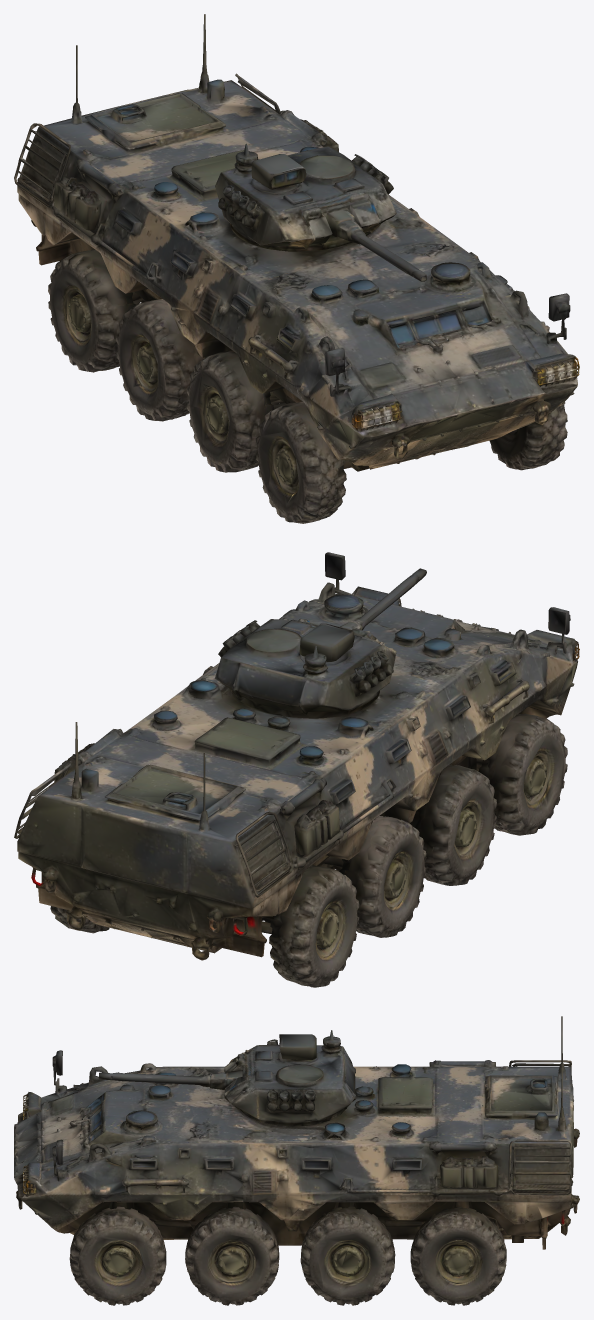
The model's file is car_apc.glb.
3 renders of one model, top to bottom at view 1: azimuth 30°, elevation 25°; view 2: azimuth 150°, elevation 25°; view 3: azimuth 270°, elevation 25°, orthographic. The views are drawn at different scales.
Visible parts, largest first — view 1: node_0; view 2: node_0; view 3: node_0.
Boxes of the visible parts, left/top/right/bottom form: node_0: left=14, top=14, right=579, bottom=523; node_0: left=14, top=552, right=579, bottom=987; node_0: left=14, top=1016, right=579, bottom=1305.
Size of the model in its own units: 0.501 by 0.4801 by 1.14.
Materials: 1 (1 with a texture image).
